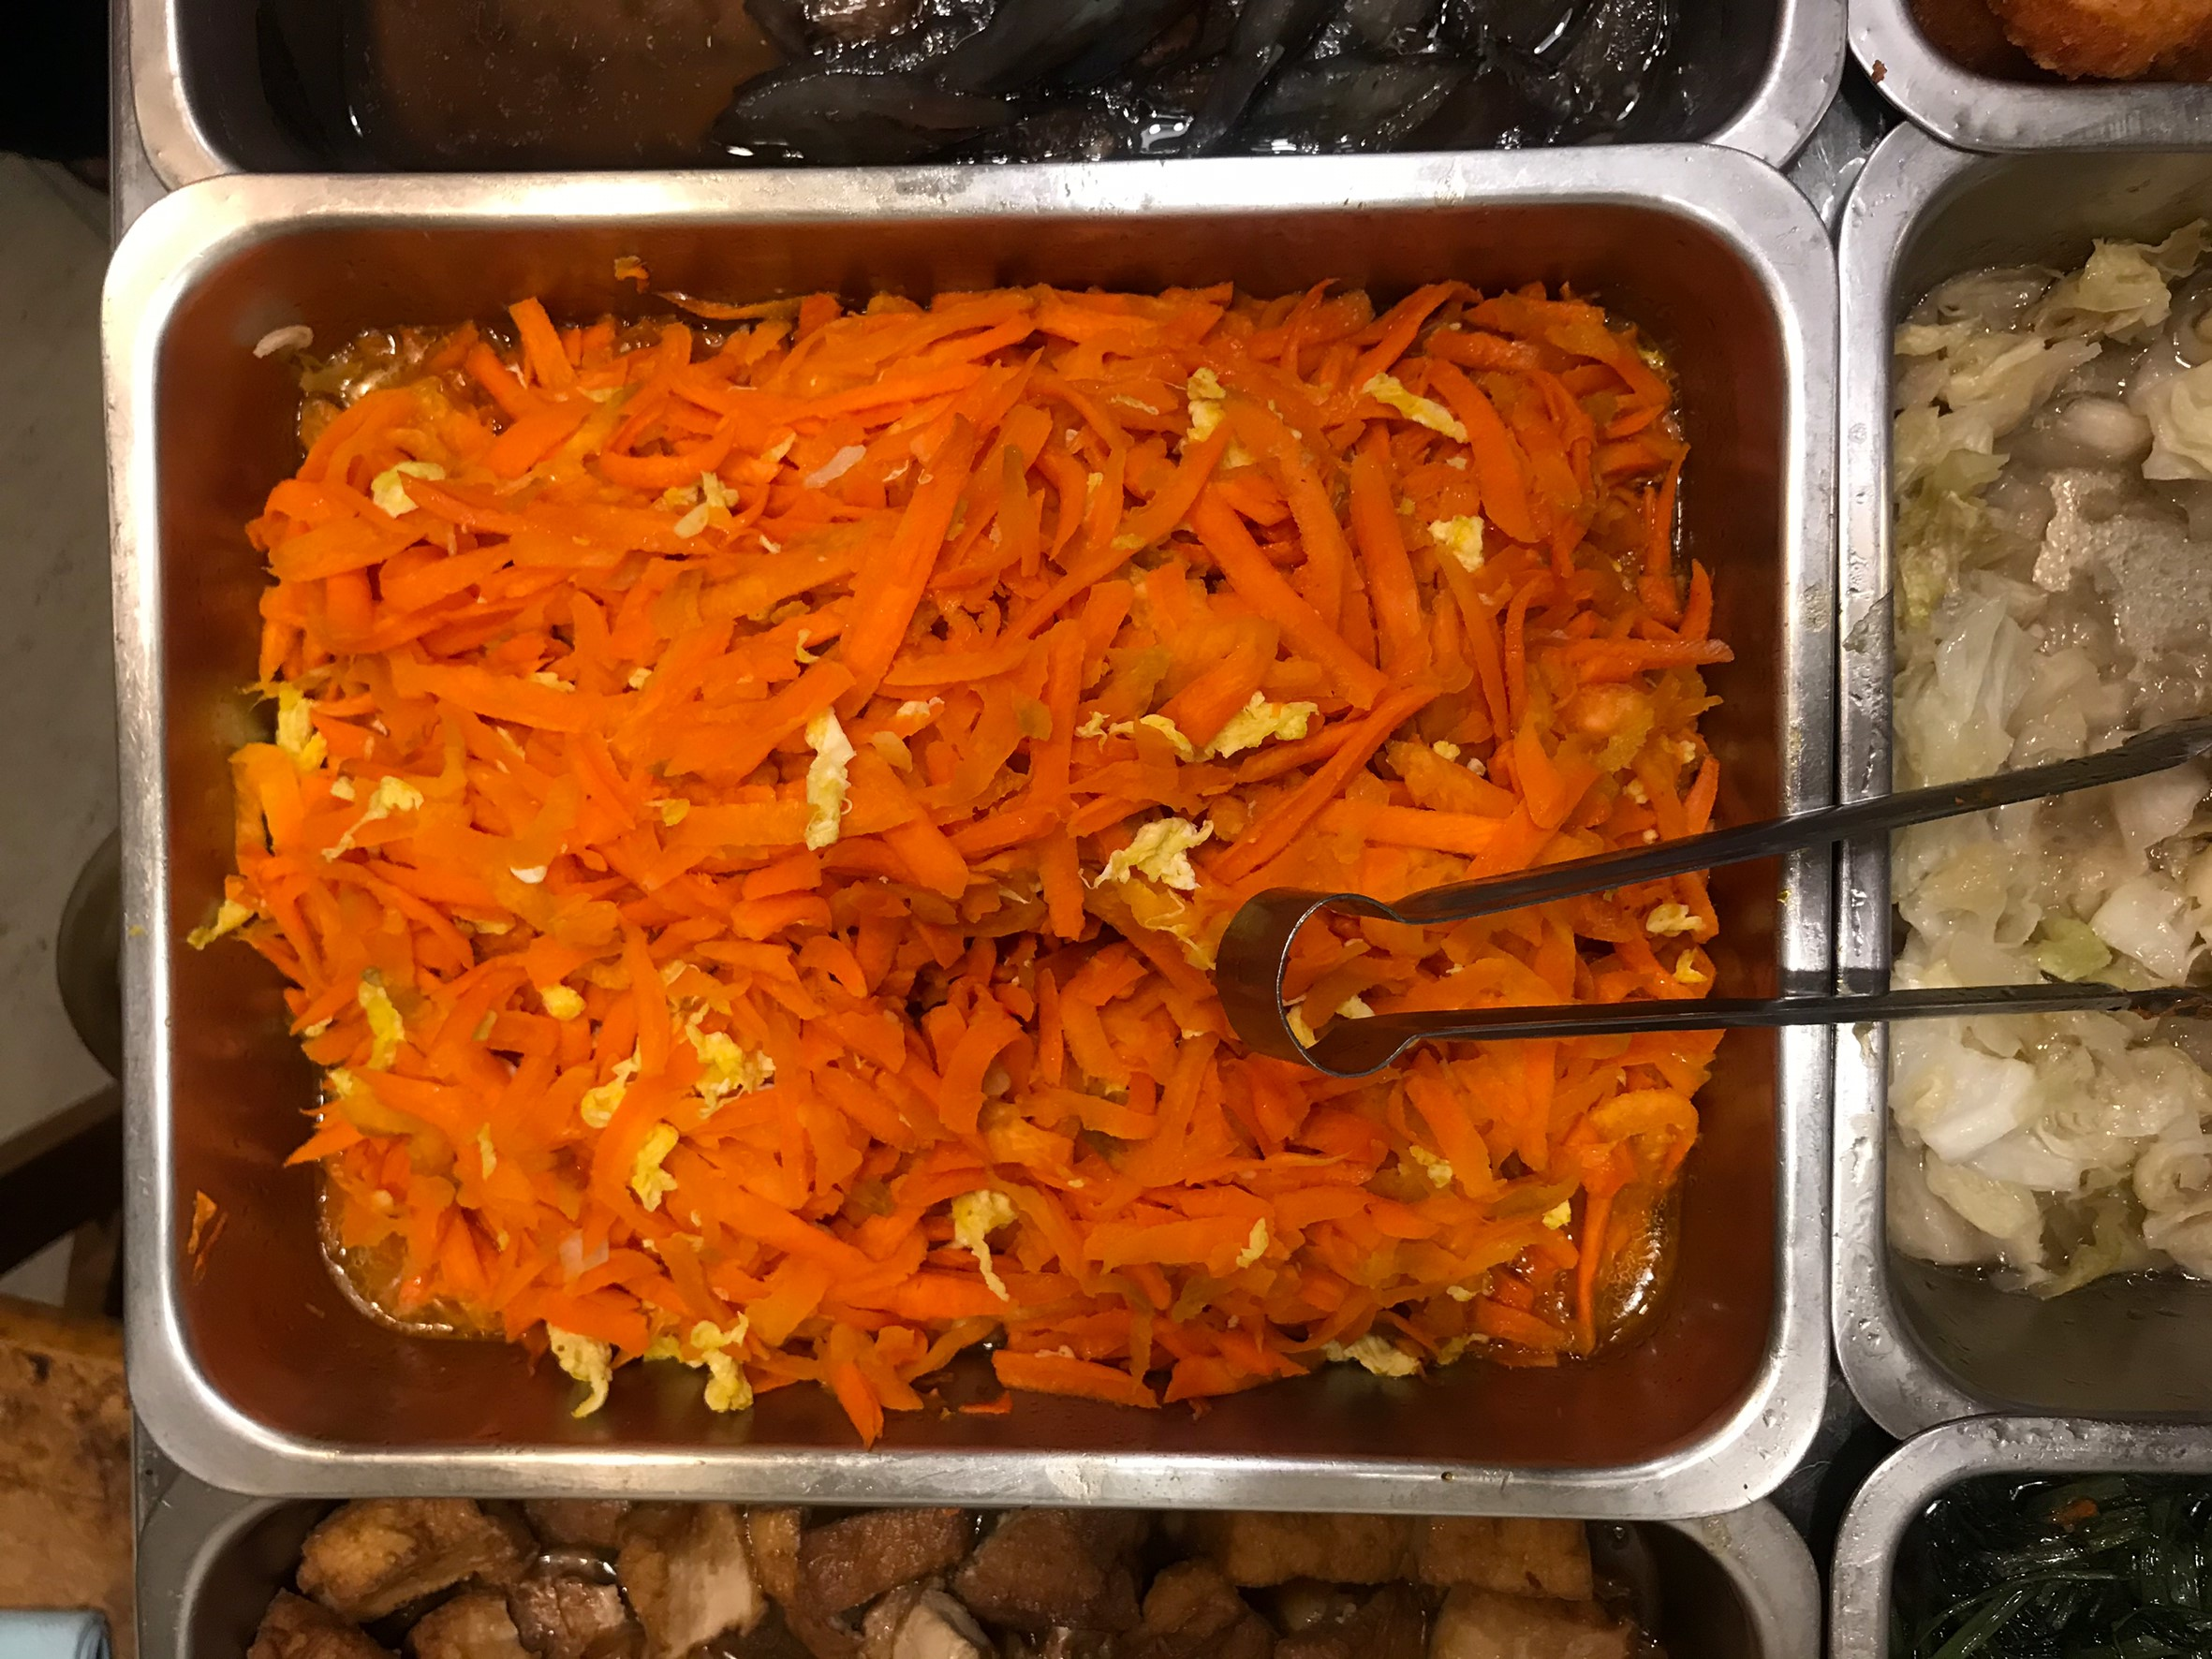carrot_eggs: (305, 326, 1687, 1394)
chinese_cabbage: (1910, 260, 2212, 1293)
